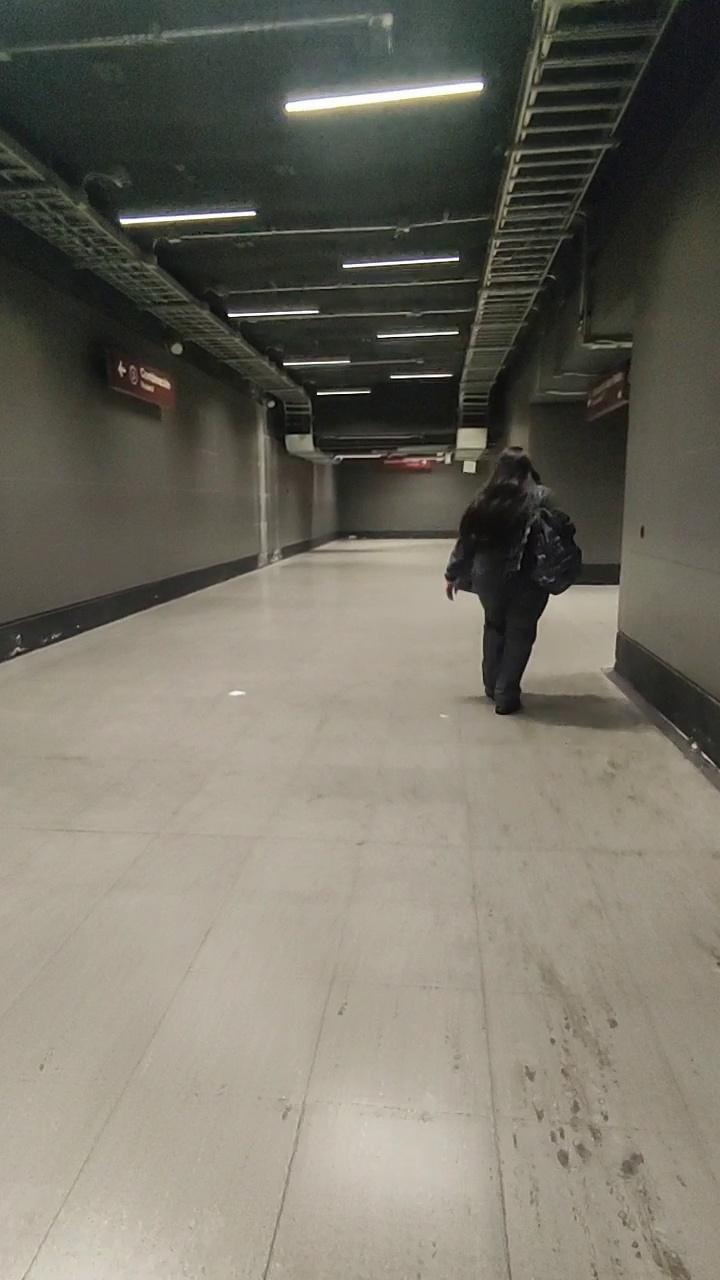left arrow: (116, 362, 128, 379)
